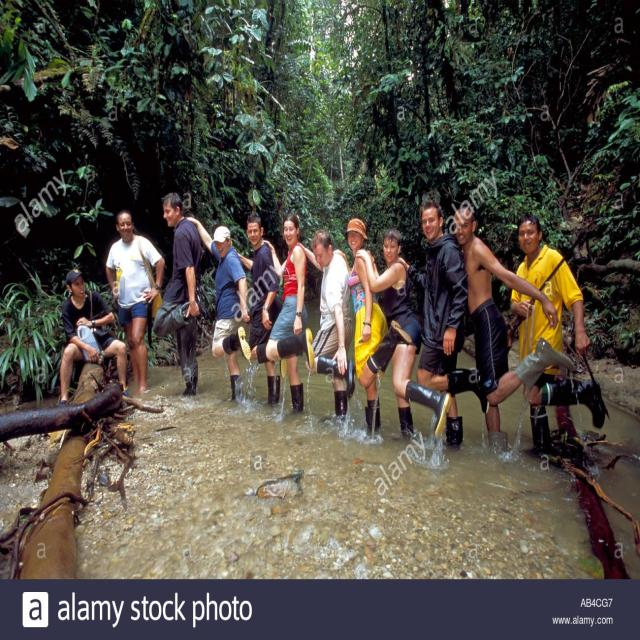body: (451, 205, 577, 457), (508, 212, 606, 459), (397, 196, 491, 452), (354, 227, 454, 448), (331, 215, 414, 448), (151, 189, 213, 410), (184, 215, 253, 404), (104, 208, 167, 402), (55, 266, 136, 416), (297, 228, 356, 423), (260, 212, 316, 416), (232, 213, 282, 407)
